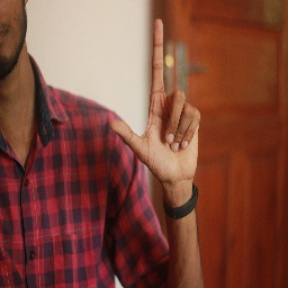L: (109, 19, 203, 180)
